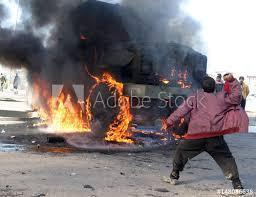fire: (95, 72, 134, 143), (31, 87, 92, 131), (173, 70, 191, 86), (160, 76, 169, 85)
